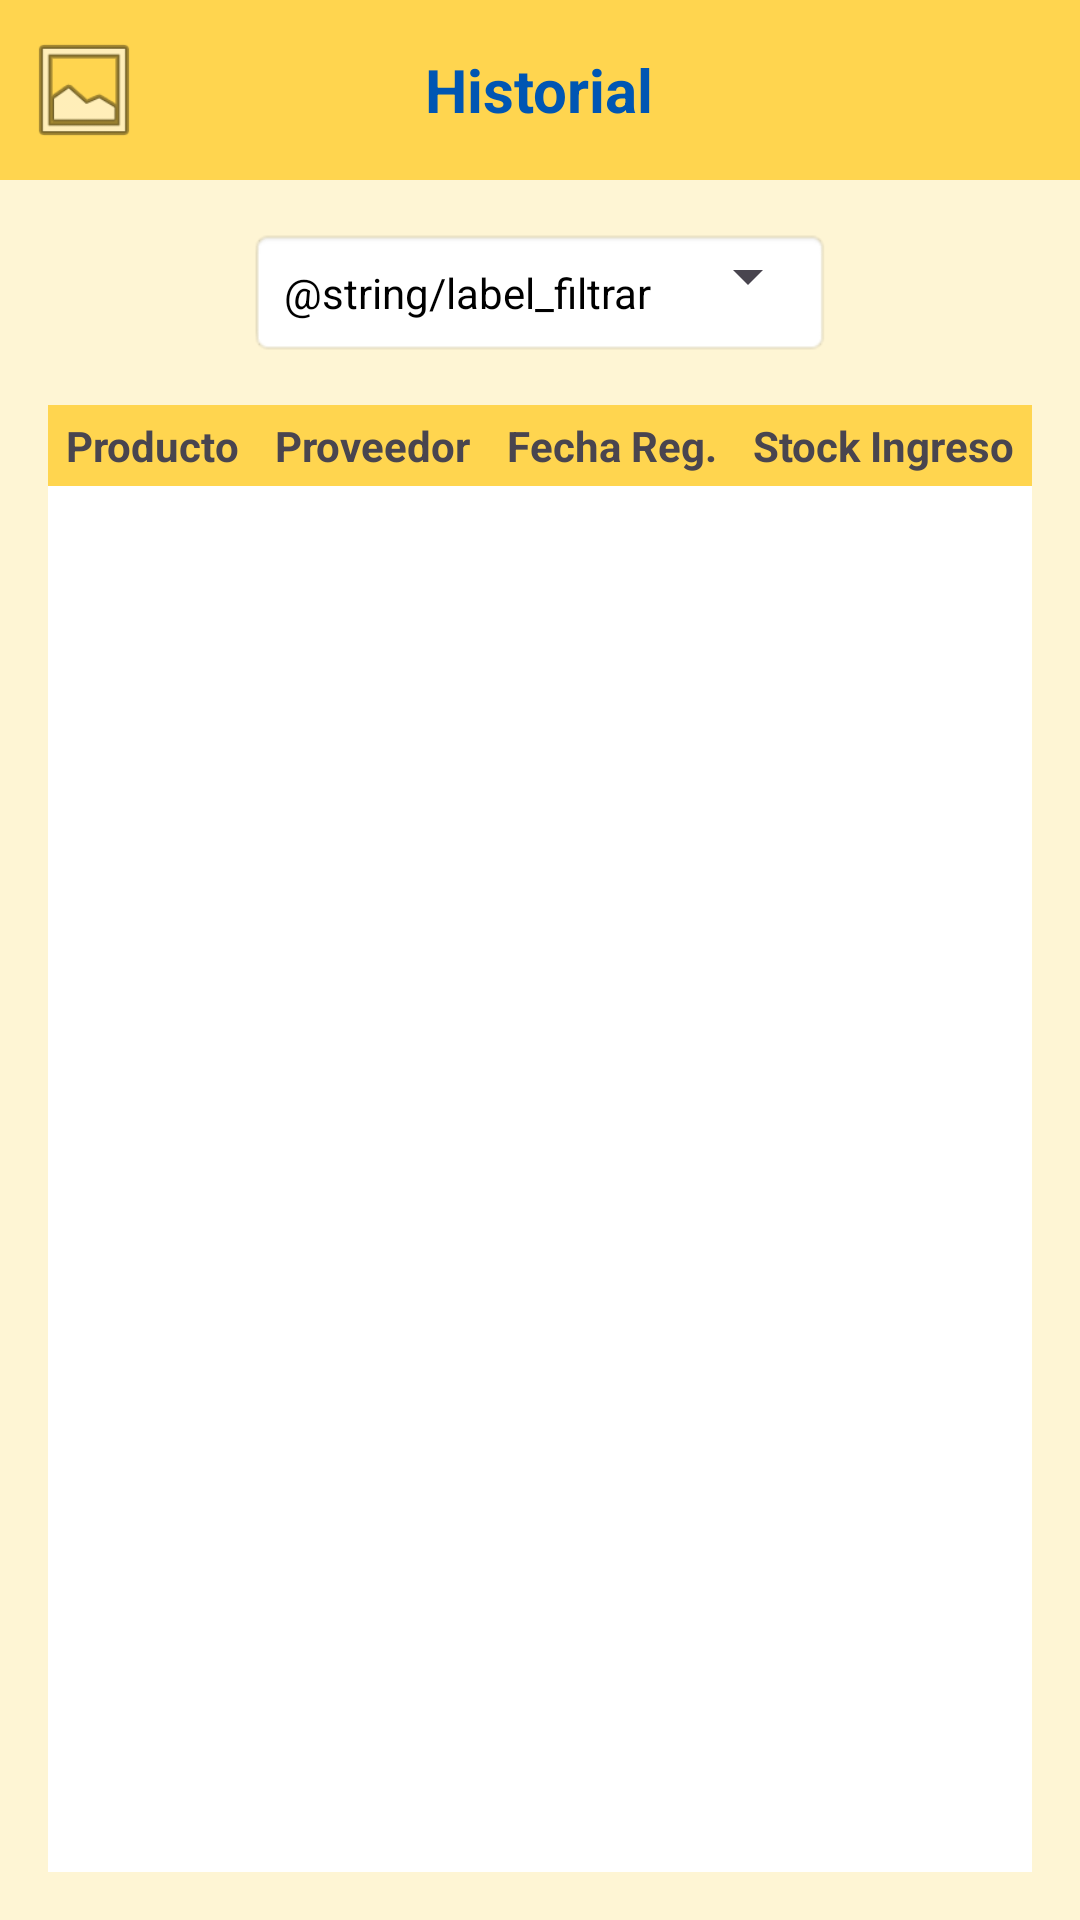

Icons on this 1080*1920 Android screen, each with its box as [left=x1, top=y1, right=x2, bottom=y2]:
gallery: [left=39, top=45, right=129, bottom=135]
